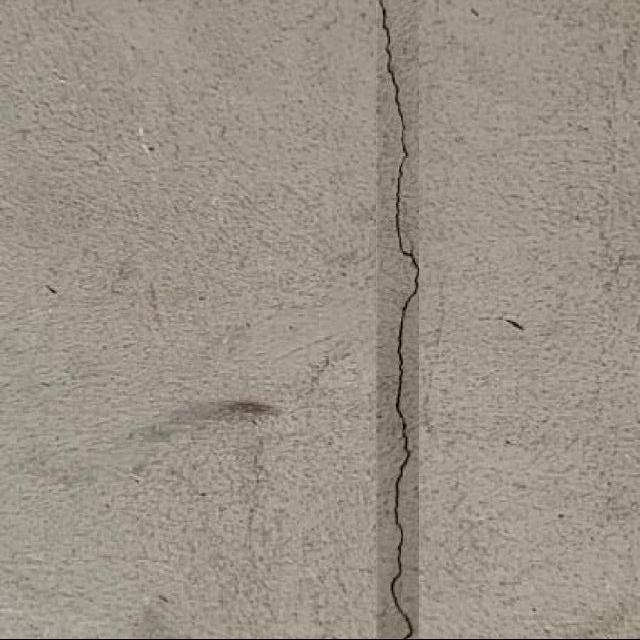Crack: (374, 0, 420, 639)
